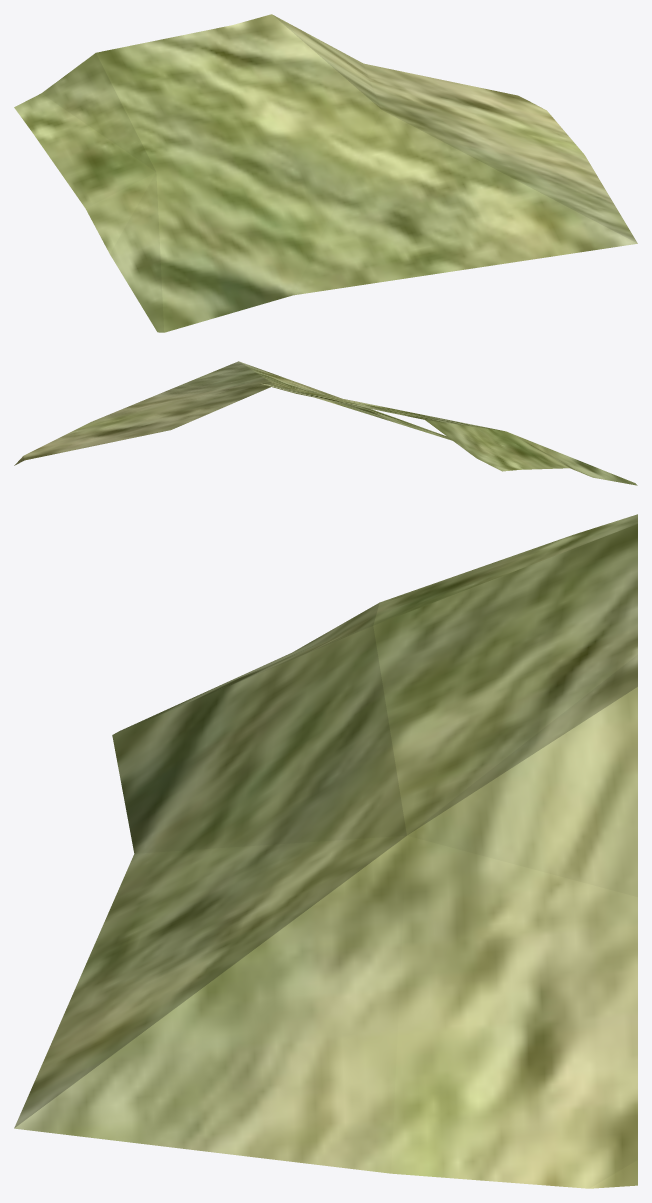
3 renders of one model, top to bottom at view 1: azimuth 30°, elevation 25°; view 2: azimuth 150°, elevation 25°; view 3: azimuth 270°, elevation 25°, orthographic. The views are drawn at different scales.
Size of the model in its own units: 1.66 by 0.4713 by 0.9543.
1 material, 1 textured.
